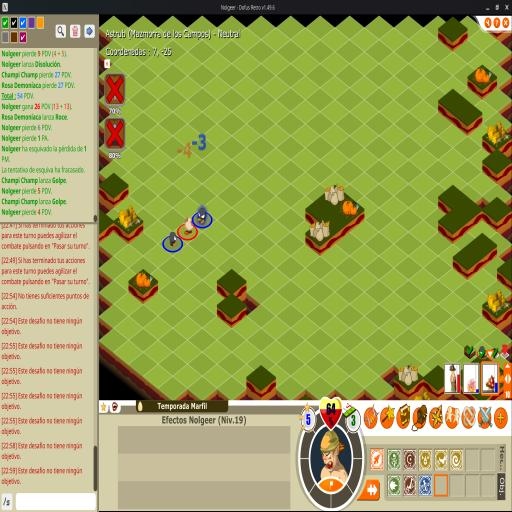Enemigos: (162, 231, 184, 253), (192, 206, 212, 229)
Personaje: (177, 217, 198, 241)
